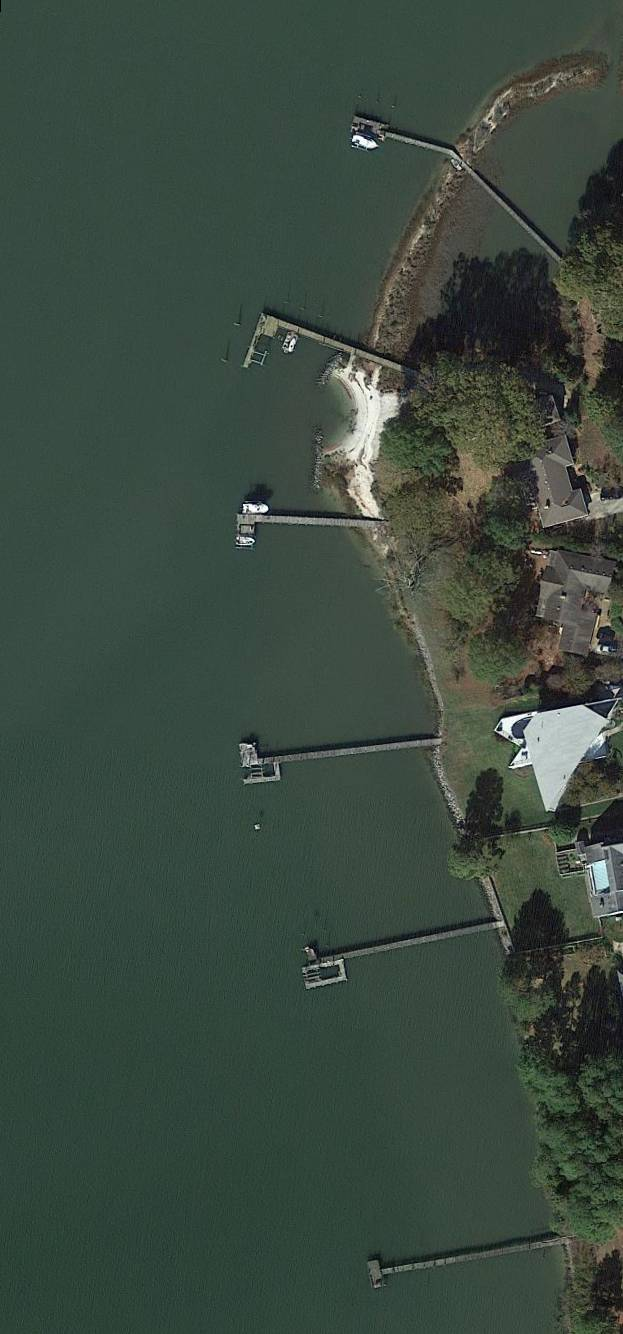harbor: (298, 916, 480, 992), (240, 721, 413, 787), (366, 1226, 544, 1290), (241, 312, 344, 394), (350, 115, 456, 161), (237, 515, 344, 543)
ship: (348, 134, 384, 156), (241, 501, 272, 514), (236, 537, 258, 546)
